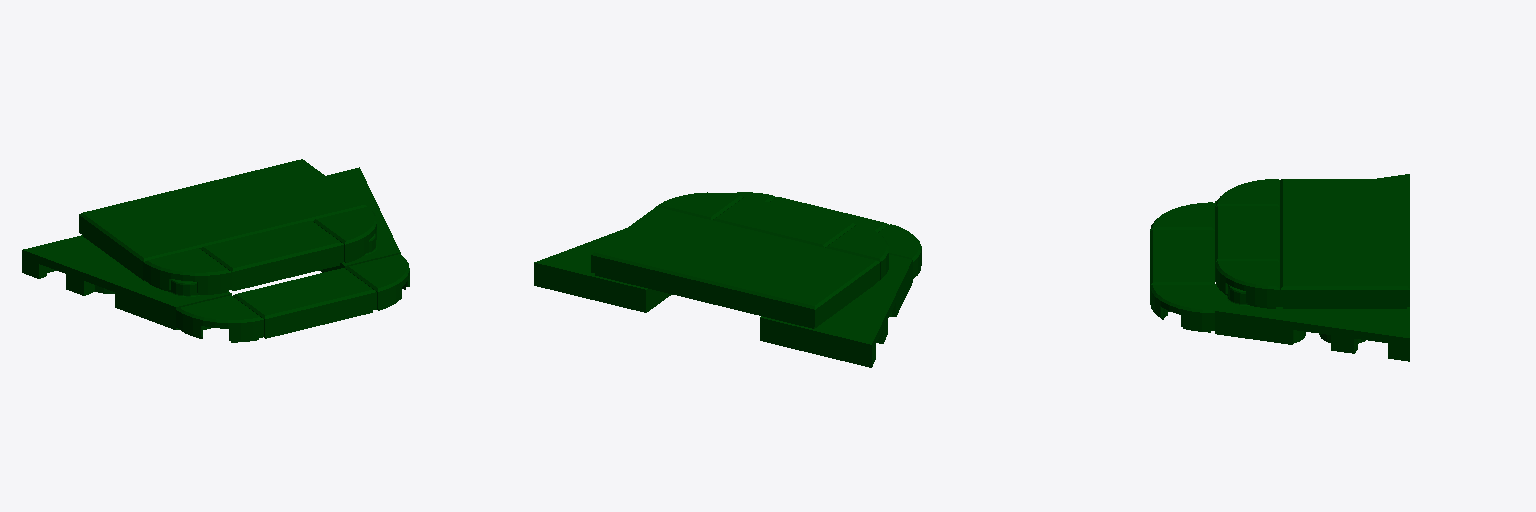
File: motorhaube_gruen.obj
3 views of the same model, side by side, from view 1: azimuth 30°, elevation 25°; view 2: azimuth 150°, elevation 25°; view 3: azimuth 270°, elevation 25° (orthographic).
Parts seen in each view (by area): view 1: Part.135, Part.117, Part.68, Part.69, Part.28, Part.30, Part.118, Part.27, Part.29; view 2: Part.135, Part.117, Part.118, Part.69, Part.30, Part.29, Part.28, Part.68; view 3: Part.135, Part.118, Part.68, Part.69, Part.27, Part.29, Part.28, Part.30.
Boxes of the visible parts, <box> form: Part.135: <box>79,159,366,280</box>; Part.117: <box>22,235,231,329</box>; Part.68: <box>233,268,376,338</box>; Part.69: <box>200,221,343,290</box>; Part.28: <box>176,295,263,342</box>; Part.30: <box>143,248,231,294</box>; Part.118: <box>319,167,400,272</box>; Part.27: <box>345,254,409,310</box>; Part.29: <box>313,207,376,262</box>; Part.135: <box>591,207,879,328</box>; Part.117: <box>760,254,912,367</box>; Part.118: <box>534,228,671,312</box>; Part.69: <box>713,197,855,247</box>; Part.30: <box>826,224,888,280</box>; Part.29: <box>656,192,743,219</box>; Part.28: <box>879,224,921,278</box>; Part.68: <box>769,197,888,232</box>; Part.135: <box>1280,179,1409,308</box>; Part.118: <box>1215,284,1409,361</box>; Part.68: <box>1150,230,1214,285</box>; Part.69: <box>1215,206,1279,261</box>; Part.27: <box>1150,285,1214,332</box>; Part.29: <box>1215,261,1279,308</box>; Part.28: <box>1150,202,1214,230</box>; Part.30: <box>1215,179,1279,206</box>.
Size of the model in its own units: 47.92 by 6.36 by 31.96.